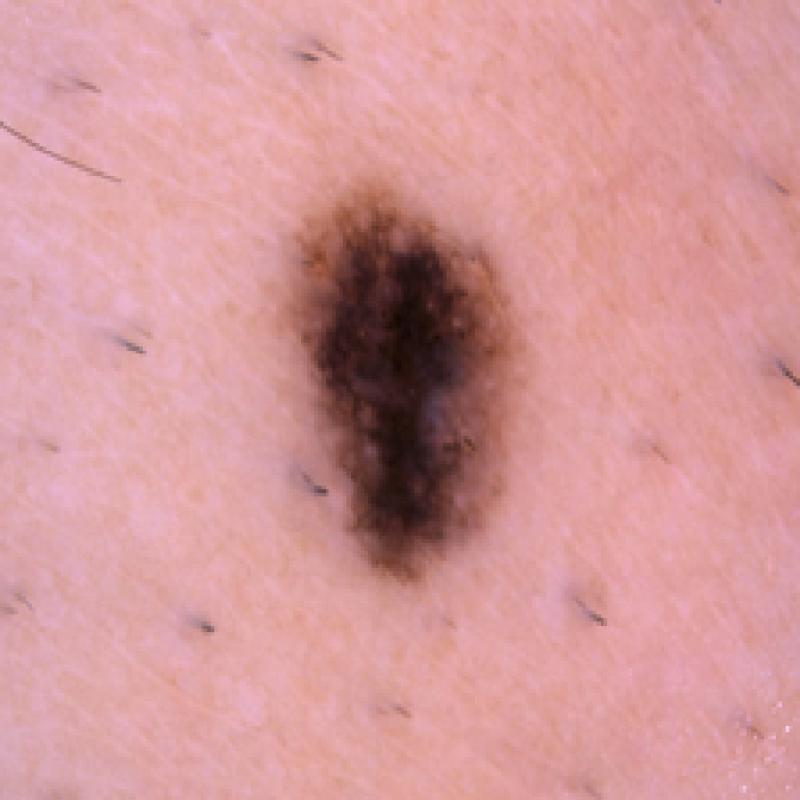benign: (233, 173, 558, 605)
